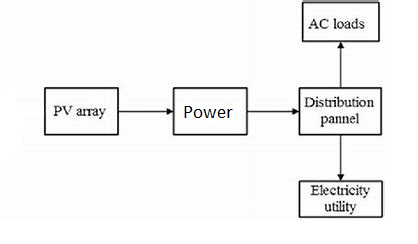arrow: (117, 107, 175, 116), (336, 42, 346, 90), (246, 107, 300, 115), (337, 133, 345, 180)
process: (297, 86, 384, 137), (42, 85, 121, 137), (171, 85, 250, 137), (296, 179, 385, 219), (300, 1, 382, 44)
text: (303, 95, 376, 128), (309, 184, 371, 214), (52, 104, 108, 120), (182, 104, 234, 120), (307, 18, 366, 31)
